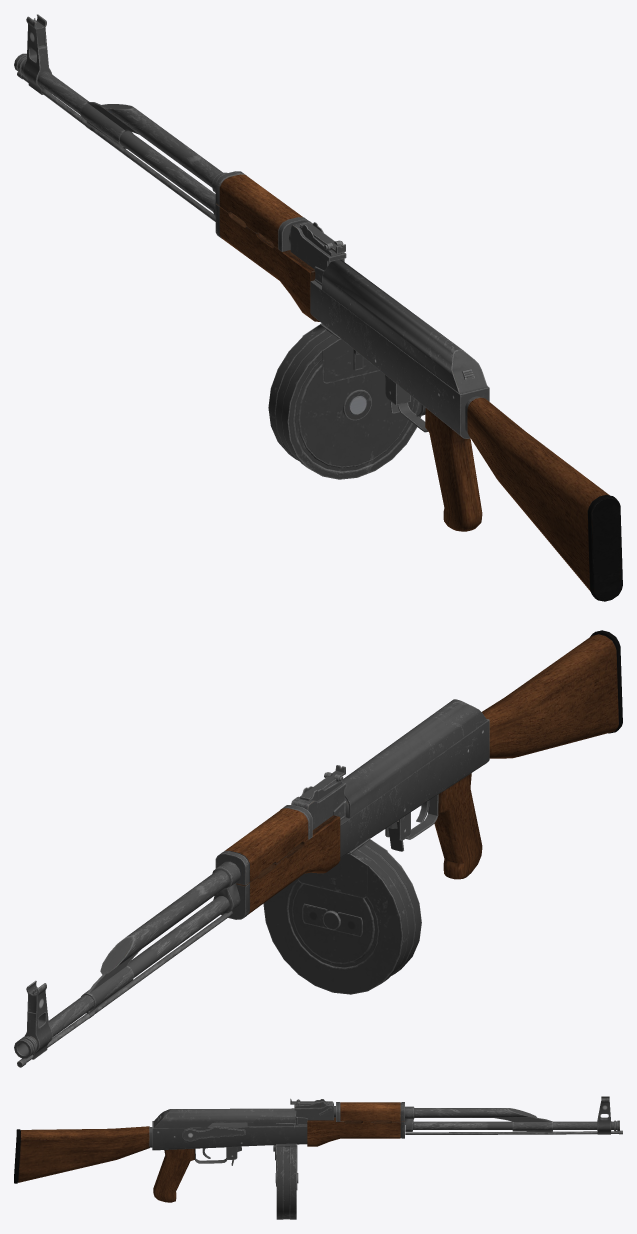
File: BattleRifle.obj
3 views of the same model, one above another, from view 1: azimuth 30°, elevation 25°; view 2: azimuth 150°, elevation 25°; view 3: azimuth 270°, elevation 25° (orthographic). The views are drawn at different scales.
Parts seen in each view (by area): view 1: BattleRifle_Body_0, BattleRifle_Magazine_0; view 2: BattleRifle_Body_0, BattleRifle_Magazine_0; view 3: BattleRifle_Body_0, BattleRifle_Magazine_0, BattleRifle_Bolt_0.
Part boxes in pixels (box(x1,y1,x2,y2)): BattleRifle_Body_0: box(14, 14, 622, 601); BattleRifle_Magazine_0: box(268, 323, 421, 479); BattleRifle_Body_0: box(14, 630, 622, 1067); BattleRifle_Magazine_0: box(263, 838, 421, 994); BattleRifle_Body_0: box(14, 1096, 622, 1202); BattleRifle_Magazine_0: box(273, 1143, 298, 1219); BattleRifle_Bolt_0: box(247, 1116, 295, 1128).
Bounding box in the file's own units: 0.1387 × 0.2163 × 1.02.
2 materials, 2 textured.
